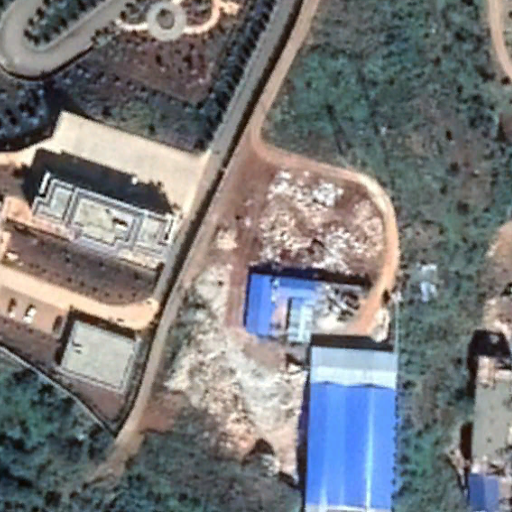msw: (178, 271, 301, 469), (258, 173, 384, 281)
